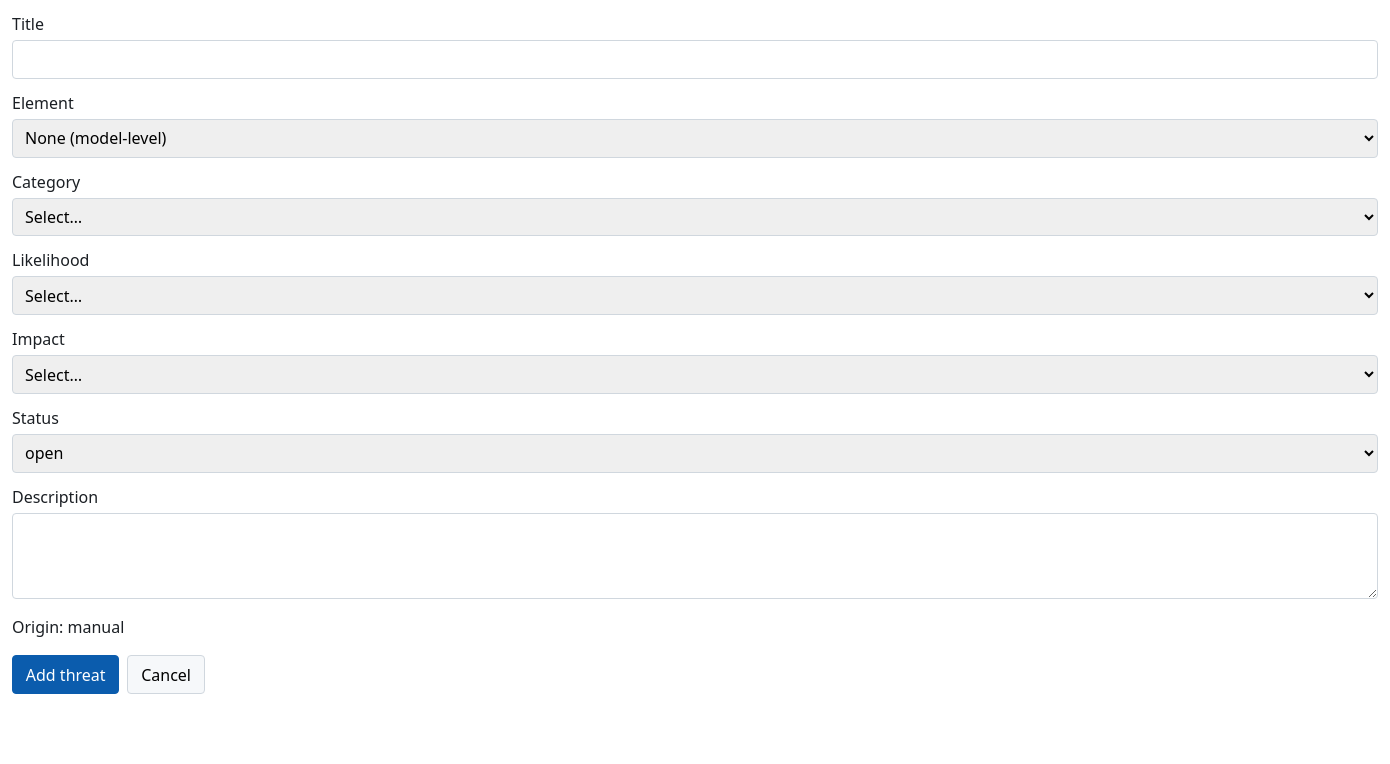
a client-side rejection › ThreatForm focuses the first invalid field even when it is not the first one on the form
Type "A fine title" into the field labelled "Title" at (695, 59), box [12,40,1378,79]
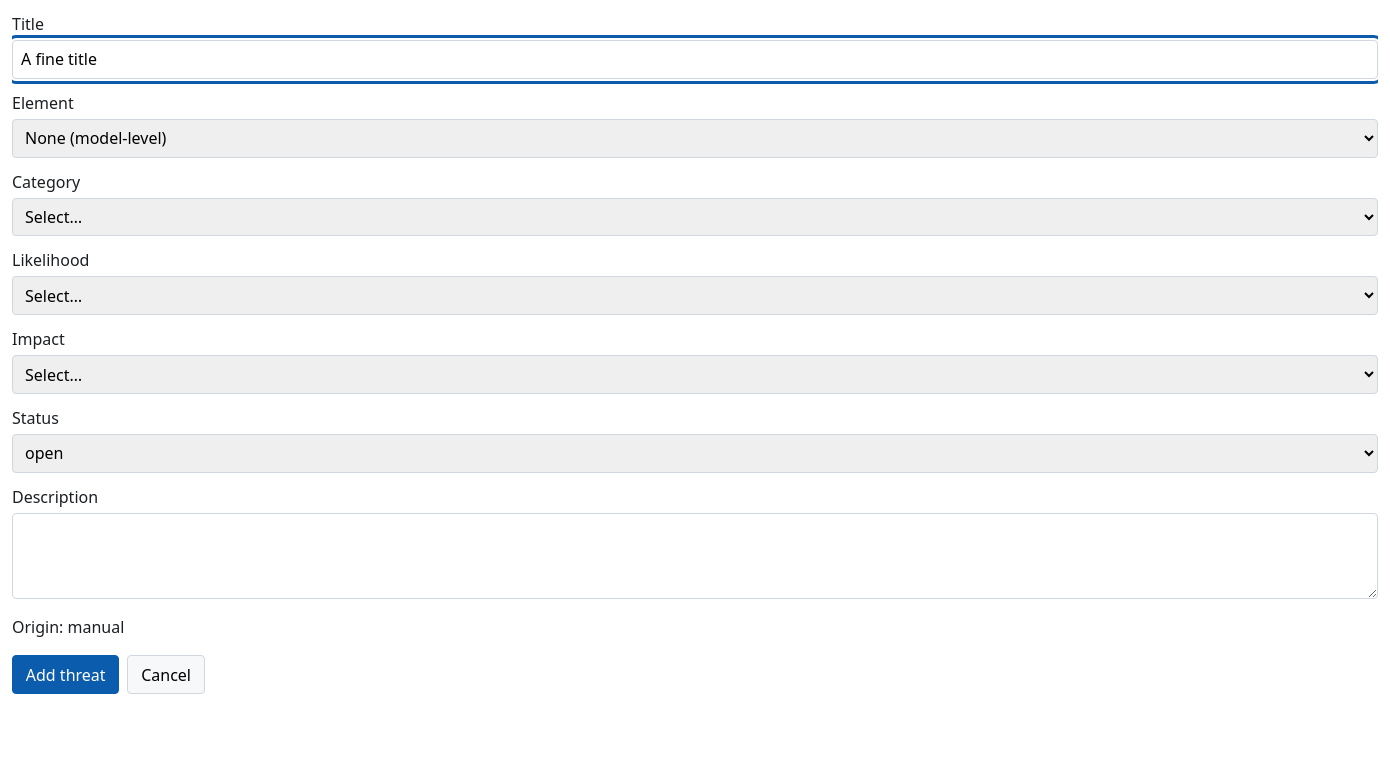
Click the button "Add threat" at (66, 675), box [12,656,119,694]
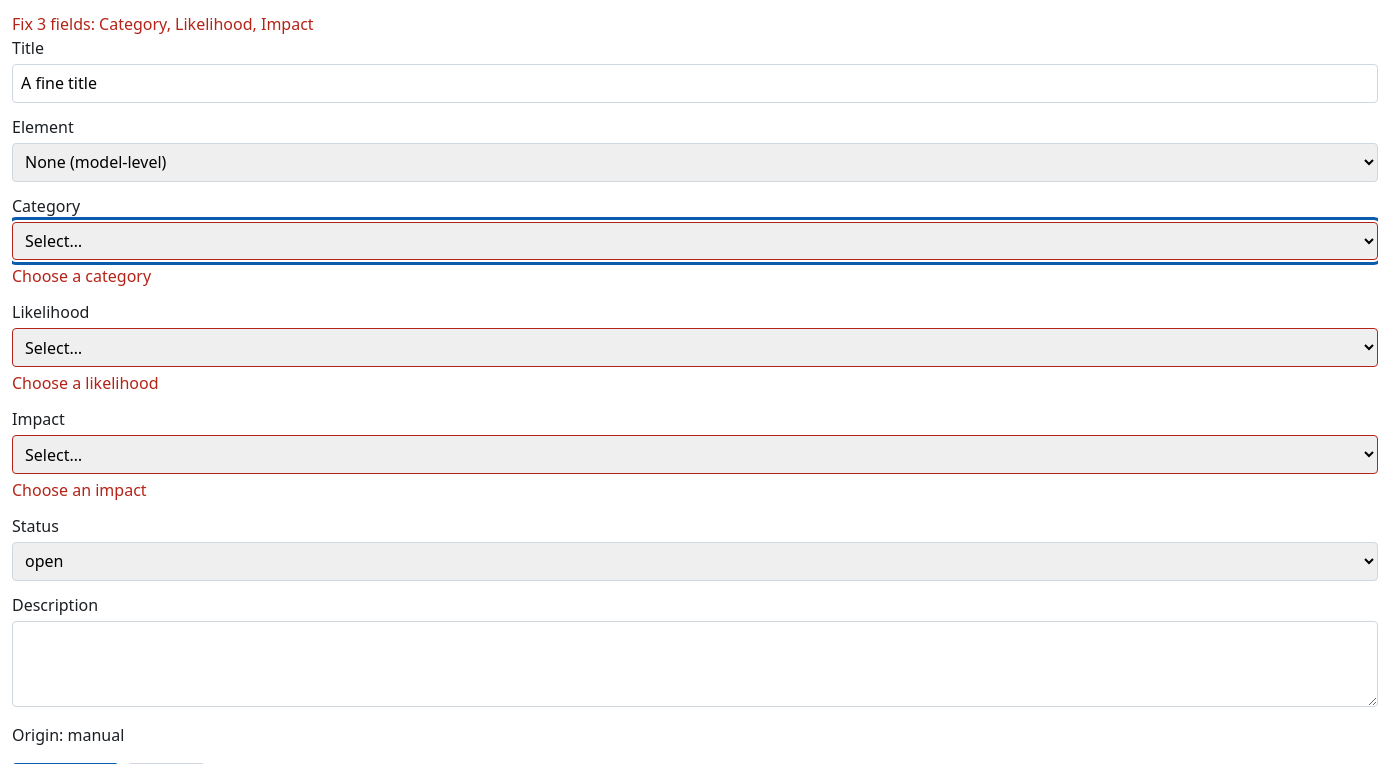
Expected: the message reads "Fix 3 fields: Category, Likelihood, Impact", [12,13,314,35]
